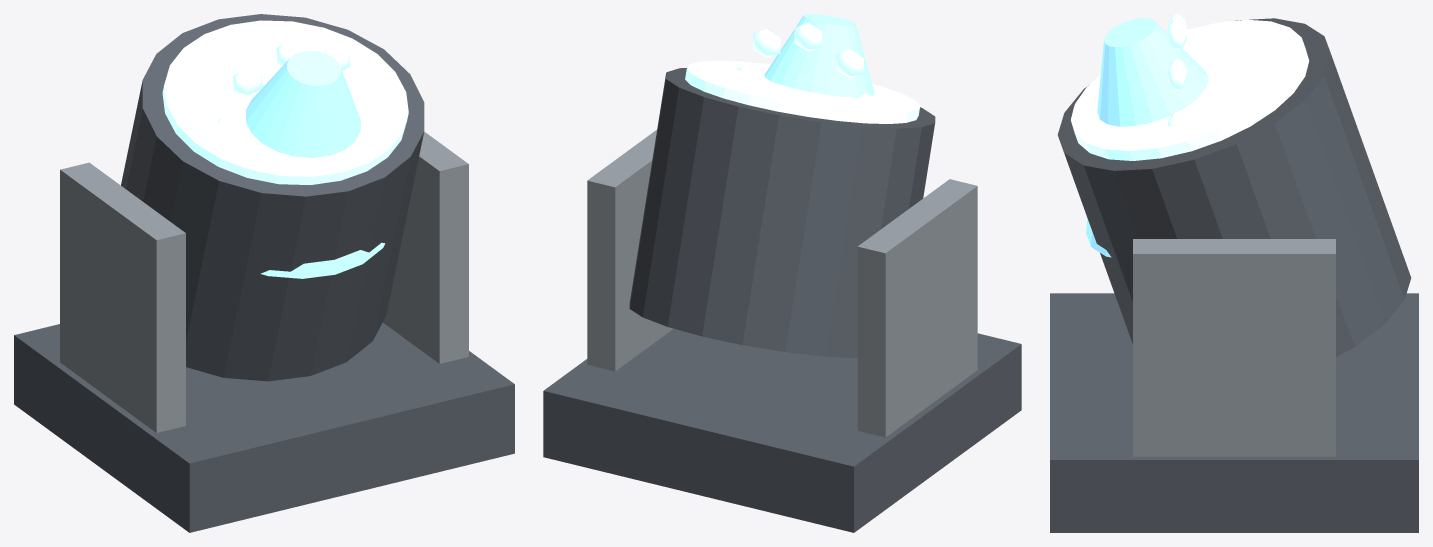
Rendered from lighting-uplight-set.glb.
3 renders of one model, left to right at view 1: azimuth 30°, elevation 25°; view 2: azimuth 150°, elevation 25°; view 3: azimuth 270°, elevation 25°, orthographic. The views are drawn at different scales.
Parts seen in each view (by area): view 1: BS_UplightBase, BS_UplightFixture, BS_UplightBracket.001, BS_UplightLens, BS_UplightBracket, BS_VisibleLightBeam, BS_LensLED.004; view 2: BS_UplightFixture, BS_UplightBase, BS_UplightBracket.001, BS_UplightBracket, BS_UplightLens, BS_VisibleLightBeam, BS_LensLED.003, BS_LensLED.004, BS_LensLED.002; view 3: BS_UplightBase, BS_UplightBracket, BS_UplightFixture, BS_UplightLens, BS_VisibleLightBeam, BS_LensLED.002, BS_LensLED.003.
Boxes of the visible parts, left/top/right/bottom form: BS_UplightBase: left=14, top=322, right=514, bottom=532; BS_UplightFixture: left=121, top=14, right=424, bottom=381; BS_UplightBracket.001: left=60, top=162, right=185, bottom=432; BS_UplightLens: left=162, top=20, right=408, bottom=184; BS_UplightBracket: left=383, top=132, right=468, bottom=363; BS_VisibleLightBeam: left=246, top=51, right=385, bottom=278; BS_LensLED.004: left=233, top=66, right=262, bottom=97; BS_UplightFixture: left=629, top=68, right=935, bottom=358; BS_UplightBase: left=543, top=329, right=1021, bottom=532; BS_UplightBracket.001: left=857, top=179, right=977, bottom=437; BS_UplightBracket: left=587, top=130, right=673, bottom=371; BS_UplightLens: left=685, top=60, right=920, bottom=123; BS_VisibleLightBeam: left=764, top=14, right=874, bottom=97; BS_LensLED.003: left=794, top=23, right=822, bottom=51; BS_LensLED.004: left=836, top=49, right=863, bottom=78; BS_LensLED.002: left=753, top=29, right=780, bottom=58; BS_UplightBase: left=1050, top=293, right=1418, bottom=532; BS_UplightBracket: left=1133, top=239, right=1335, bottom=456; BS_UplightFixture: left=1057, top=18, right=1411, bottom=356; BS_UplightLens: left=1071, top=19, right=1309, bottom=160; BS_VisibleLightBeam: left=1086, top=17, right=1208, bottom=257; BS_LensLED.002: left=1168, top=59, right=1186, bottom=90; BS_LensLED.003: left=1168, top=18, right=1186, bottom=49.
Size of the model in its own units: 0.2 by 0.2411 by 0.1869.
